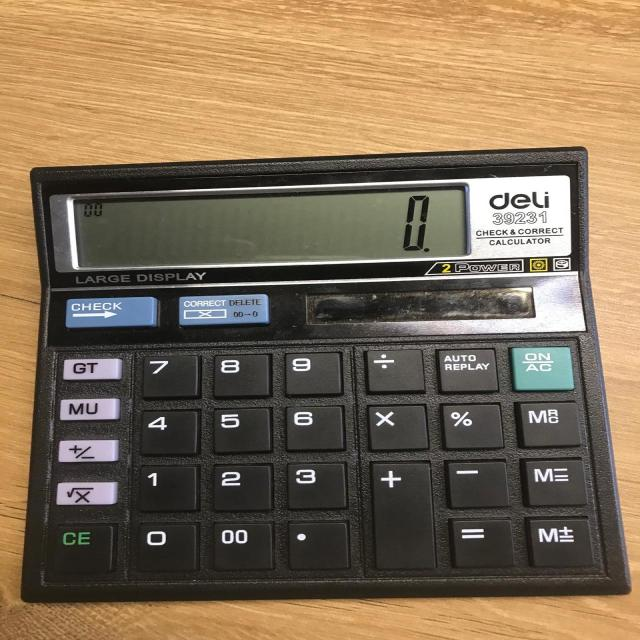calculator: (19, 145, 632, 603)
